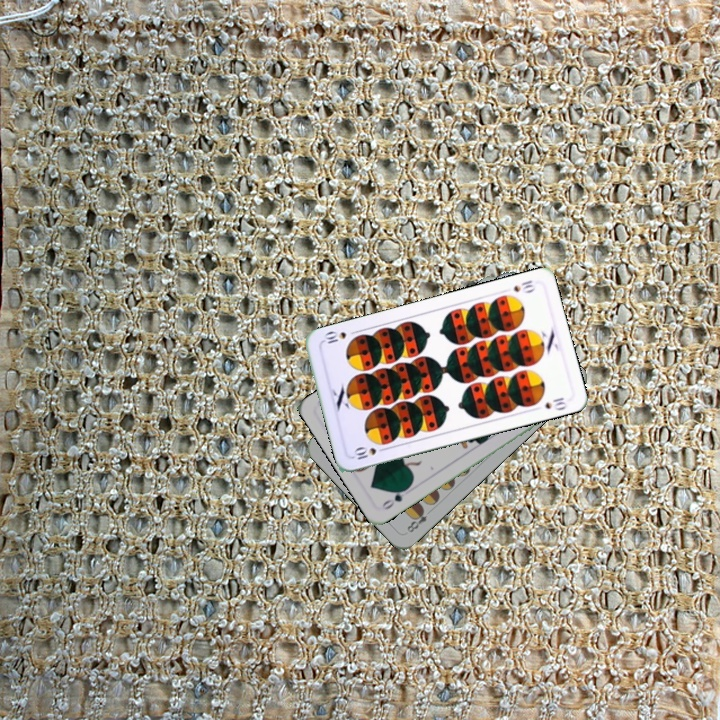E8: (403, 504, 429, 535)
GO: (377, 483, 412, 512)
S10: (349, 443, 389, 462), (510, 276, 538, 295)
